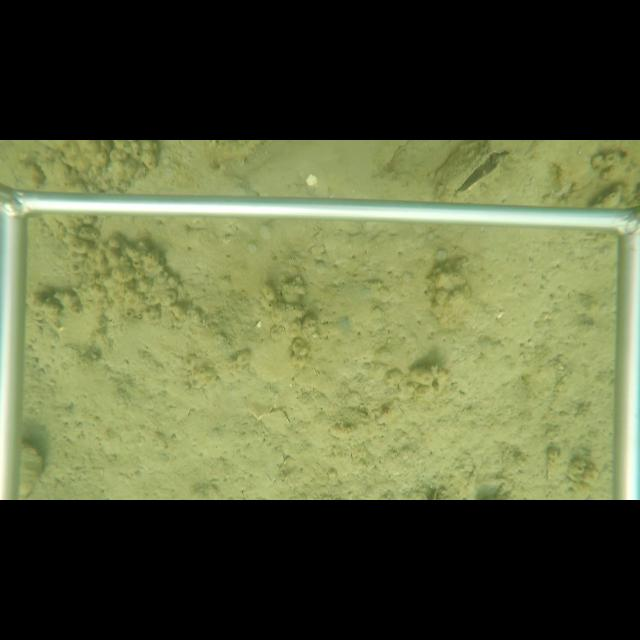Oyster-Open: (442, 148, 512, 200)
